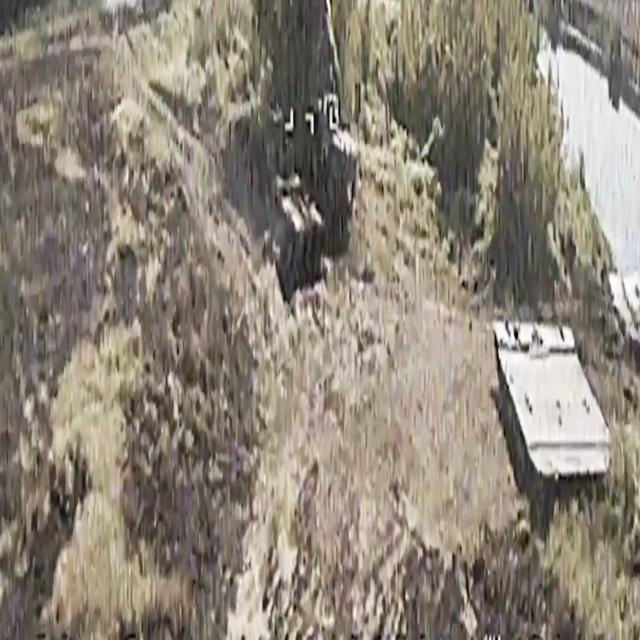vehicle: (228, 68, 356, 264)
